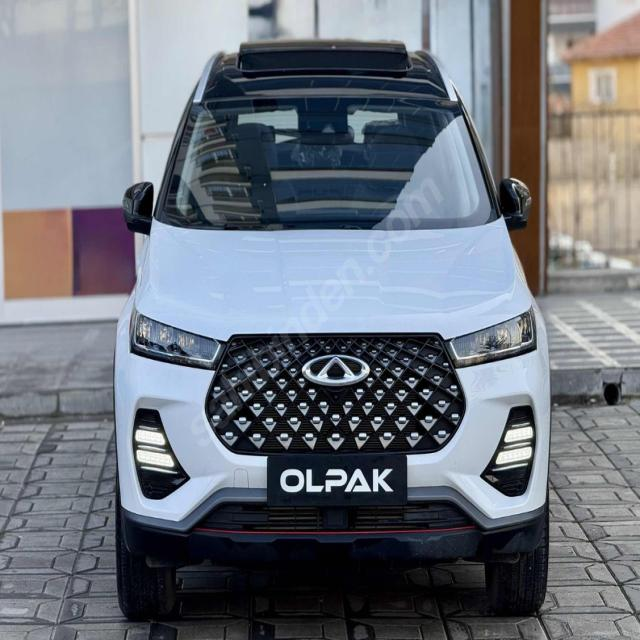cherry: (301, 351, 372, 387)
